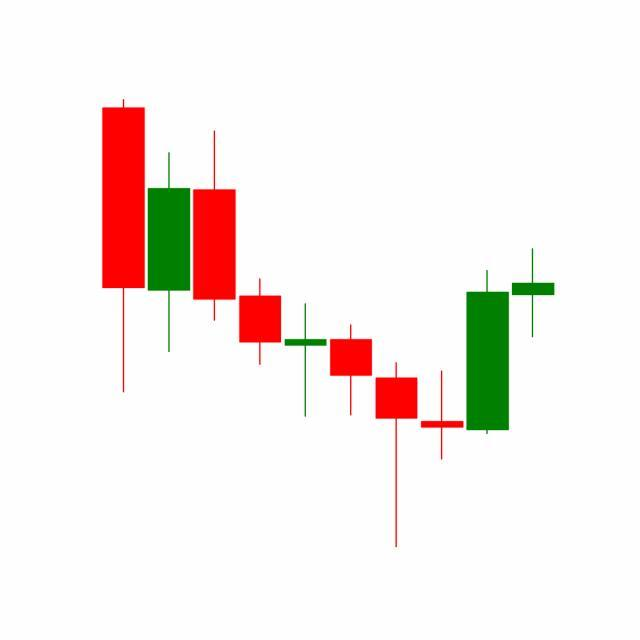Hikkake Pattern: (283, 266, 512, 548)
